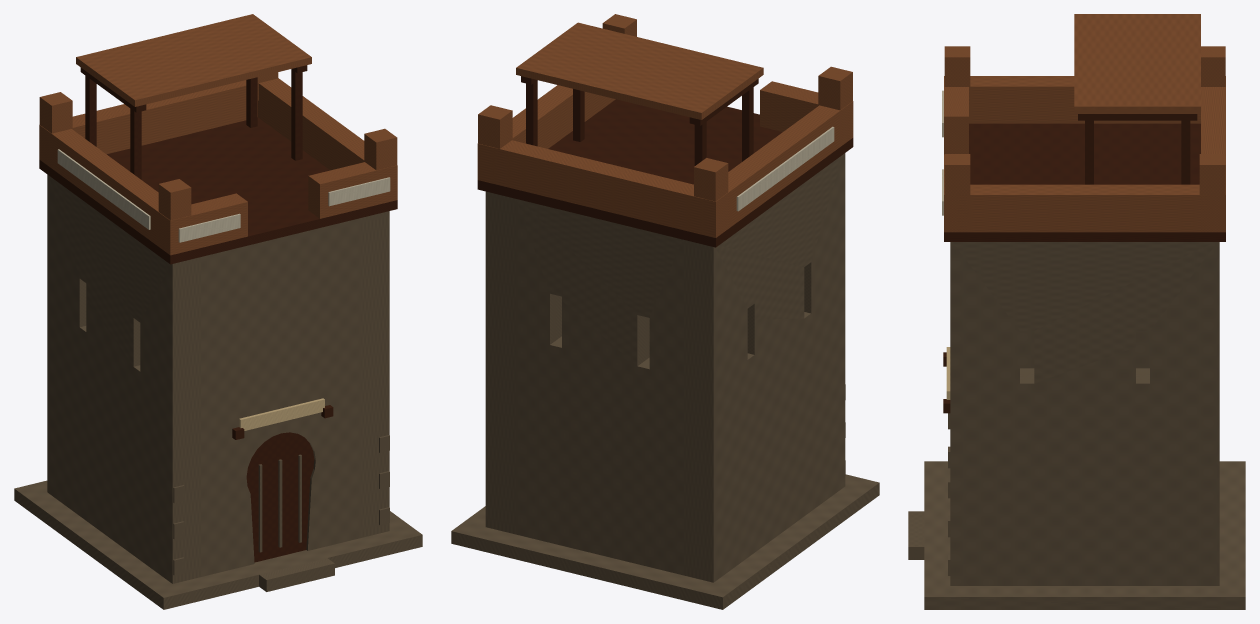
File: Berber_Outpost_Age2_stone.fbx
3 renders of one model, left to right at view 1: azimuth 30°, elevation 25°; view 2: azimuth 150°, elevation 25°; view 3: azimuth 270°, elevation 25°, orthographic. The views are drawn at different scales.
Visible parts, largest first — view 1: fortified_stone_side, fortified_stone_face, lookout_floor, fitted_flat_canopy, tower_foundation, fortified_stone_side.001, lookout_parapet_back, horseshoe_door.001, lookout_parapet_side.001, lookout_parapet_side, lookout_parapet_front.001, lookout_parapet_front (+12 smaller); view 2: fortified_stone_face.001, fortified_stone_side, lookout_floor, fitted_flat_canopy, tower_foundation, lookout_parapet_back, fortified_stone_side.001, lookout_parapet_side, lookout_parapet_side.001, lookout_parapet_front, neutral_owner_side_band, corner_merlon.003 (+5 smaller); view 3: fortified_stone_side.001, lookout_floor, tower_foundation, fitted_flat_canopy, lookout_parapet_side.001, lookout_parapet_side, lookout_parapet_back, lookout_parapet_front, corner_merlon, corner_merlon.002, corner_merlon.003, fortified_stone_side (+6 smaller).
Boxes of the visible parts, x1=… form: fortified_stone_side: x1=47, y1=174, x2=201, y2=583; fortified_stone_face: x1=200, y1=218, x2=361, y2=576; lookout_floor: x1=39, y1=117, x2=397, y2=264; fitted_flat_canopy: x1=76, y1=14, x2=311, y2=106; tower_foundation: x1=14, y1=480, x2=422, y2=609; fortified_stone_side.001: x1=361, y1=211, x2=389, y2=537; lookout_parapet_back: x1=39, y1=80, x2=257, y2=167; horseshoe_door.001: x1=246, y1=432, x2=314, y2=562; lookout_parapet_side.001: x1=258, y1=78, x2=364, y2=170; lookout_parapet_side: x1=51, y1=129, x2=164, y2=250; lookout_parapet_front.001: x1=308, y1=162, x2=397, y2=218; lookout_parapet_front: x1=159, y1=193, x2=247, y2=255; fortified_stone_face.001: x1=515, y1=199, x2=684, y2=575; fortified_stone_side: x1=683, y1=153, x2=845, y2=582; lookout_floor: x1=477, y1=99, x2=853, y2=247; fitted_flat_canopy: x1=516, y1=22, x2=763, y2=119; tower_foundation: x1=451, y1=474, x2=879, y2=609; lookout_parapet_back: x1=477, y1=140, x2=727, y2=237; fortified_stone_side.001: x1=485, y1=191, x2=515, y2=534; lookout_parapet_side: x1=728, y1=105, x2=846, y2=228; lookout_parapet_side.001: x1=512, y1=85, x2=615, y2=148; lookout_parapet_front: x1=760, y1=81, x2=853, y2=145; neutral_owner_side_band: x1=736, y1=126, x2=834, y2=211; corner_merlon.003: x1=478, y1=105, x2=512, y2=148; fortified_stone_side.001: x1=950, y1=242, x2=1219, y2=585; lookout_floor: x1=944, y1=123, x2=1225, y2=241; tower_foundation: x1=924, y1=461, x2=1245, y2=609; fitted_flat_canopy: x1=1074, y1=14, x2=1200, y2=113; lookout_parapet_side.001: x1=956, y1=184, x2=1213, y2=232; lookout_parapet_side: x1=969, y1=76, x2=1200, y2=123; lookout_parapet_back: x1=1201, y1=76, x2=1225, y2=232; lookout_parapet_front: x1=944, y1=76, x2=968, y2=153; corner_merlon: x1=944, y1=46, x2=970, y2=105; corner_merlon.002: x1=944, y1=154, x2=970, y2=194; corner_merlon.003: x1=1199, y1=154, x2=1225, y2=194; fortified_stone_side: x1=1020, y1=331, x2=1149, y2=368.
Size of the model in its own units: 360 by 596 by 378.
5 materials, 5 textured.
